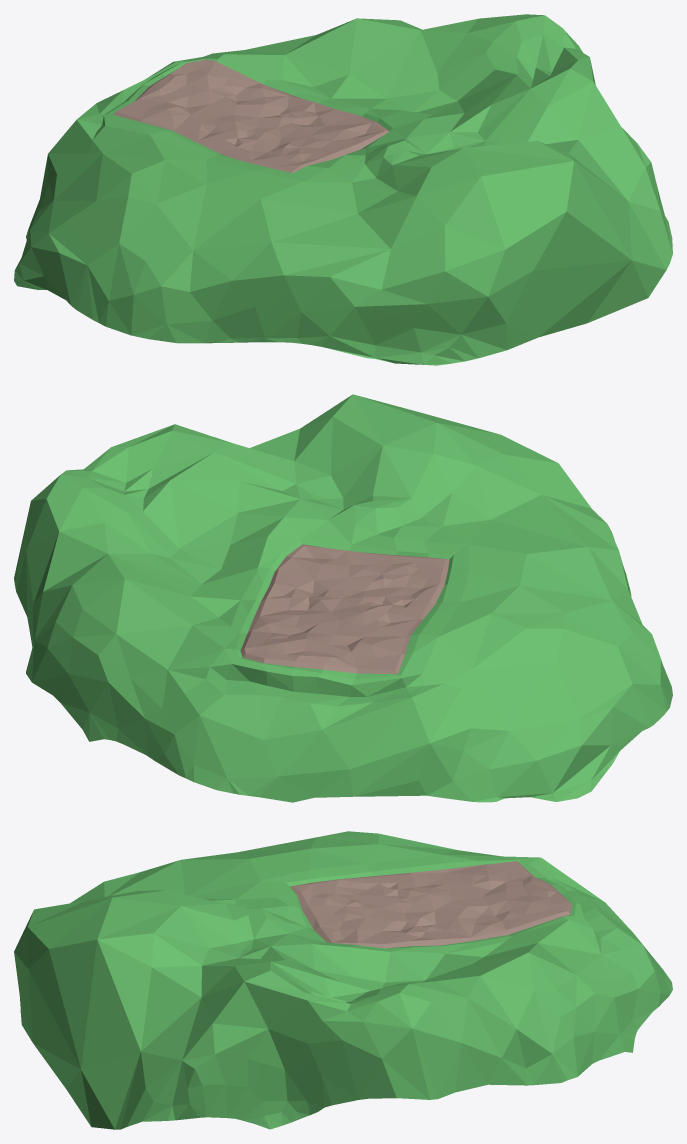
Rendered from ground_042.fbx.
3 views of the same model, one above another, from view 1: azimuth 30°, elevation 25°; view 2: azimuth 150°, elevation 25°; view 3: azimuth 270°, elevation 25° (orthographic). The views are drawn at different scales.
Visible parts, largest first — view 1: ground.042; view 2: ground.042; view 3: ground.042.
Boxes of the visible parts, x1=… form: ground.042: x1=14, y1=14, x2=672, y2=365; ground.042: x1=14, y1=394, x2=672, y2=802; ground.042: x1=14, y1=831, x2=672, y2=1129.
Size of the model in its own units: 2336 by 668 by 2433.
Materials: 1 (1 with a texture image).
